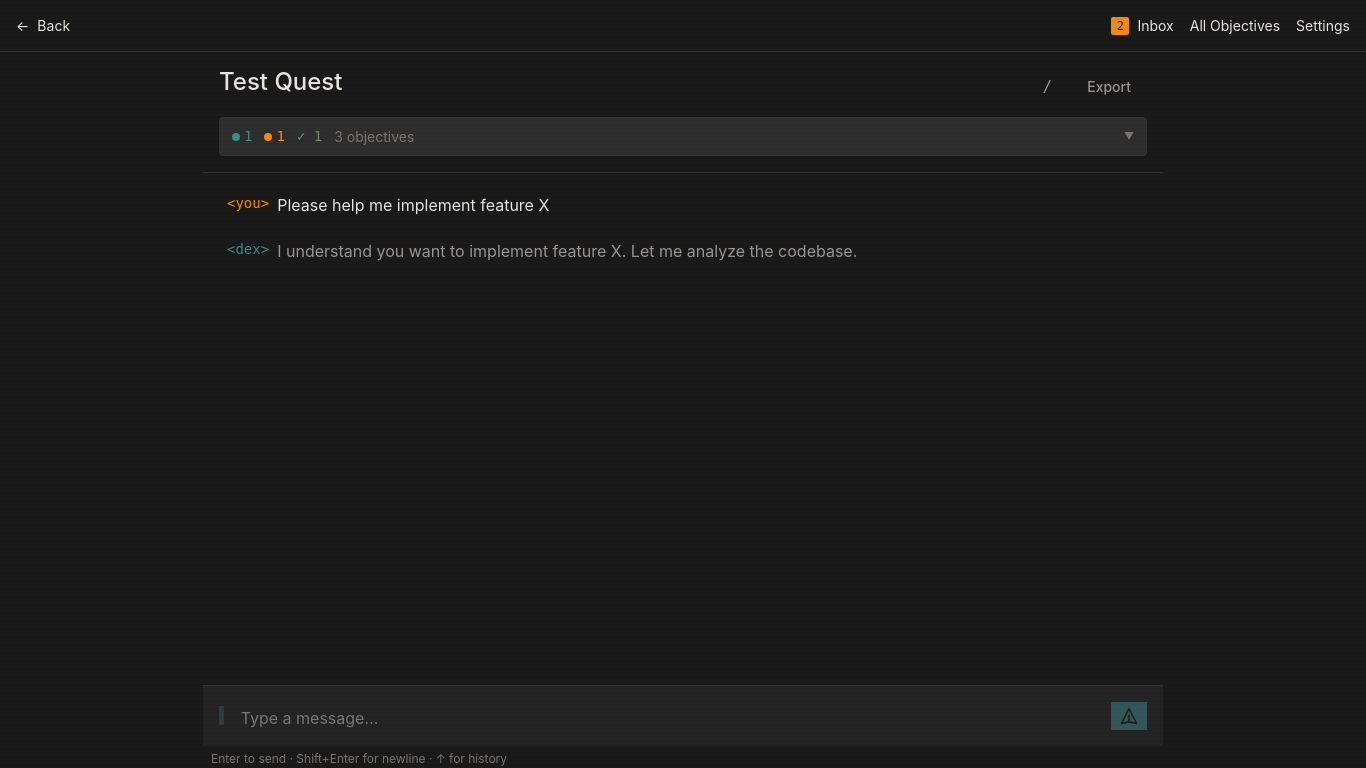
Test: QuestDetail › chat input › marks message as failed on send error
Type "This will fail" into the text box.
click(670, 718); type("This will fail")  # box [241, 706, 1099, 730]
Then press Enter
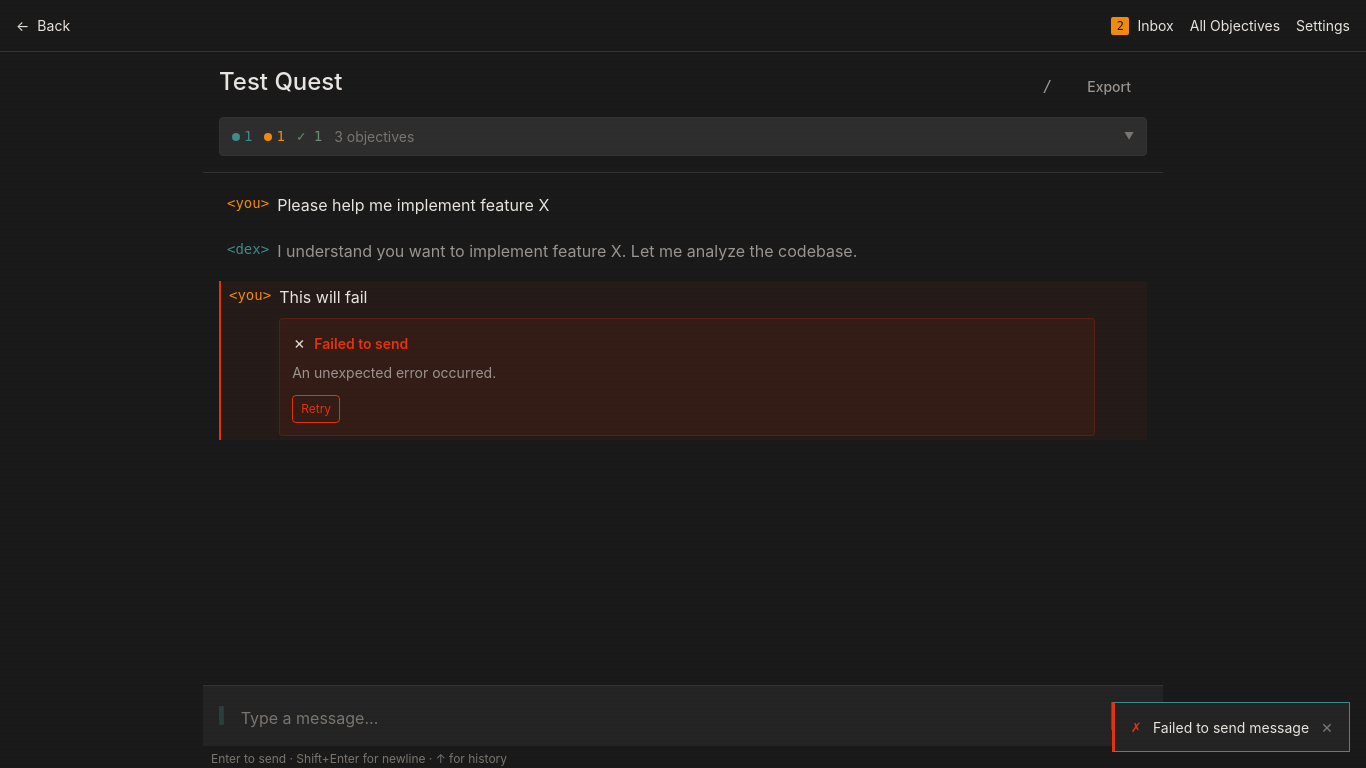
Check: the text "Failed to send" is shown, box [314, 333, 408, 354]
